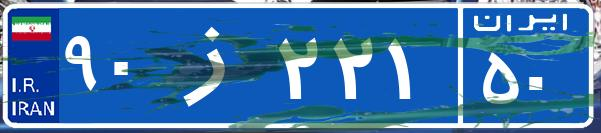0: (110, 28, 158, 105), (525, 38, 570, 115)
1: (385, 28, 445, 110)
2: (273, 28, 330, 110), (330, 28, 385, 110)
5: (475, 38, 525, 113)
9: (57, 26, 110, 107)
ز: (158, 15, 273, 115)
